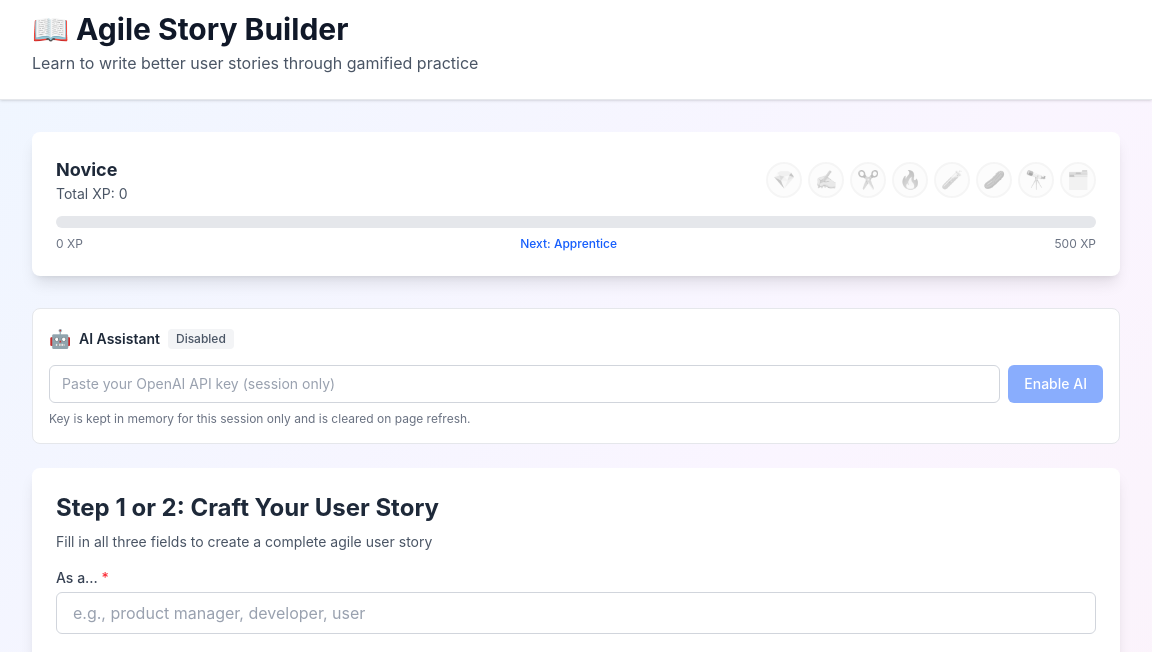
Scenario: Draft / Final flow › draft score results are shown after scoring
Step 1. Type "customer support manager" into the field labelled "As a... *" → (576, 613), box [56,592,1096,634]
(page scrolled)
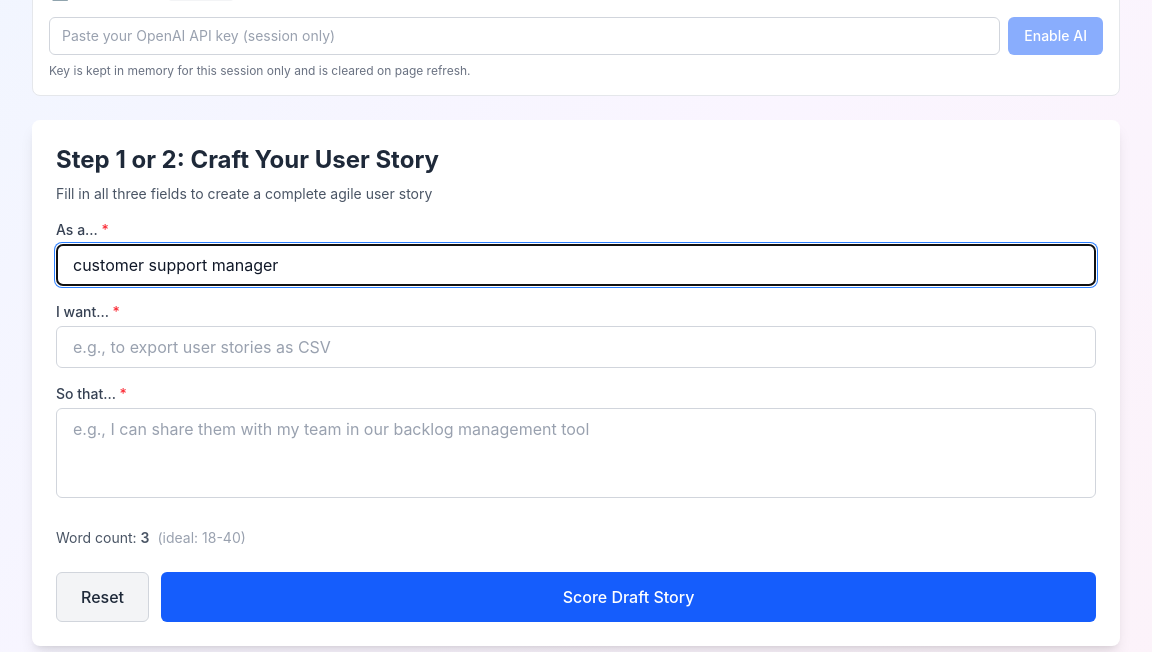
Step 2. Type "to export weekly incident summaries" into the field labelled "I want... *" → (576, 347), box [56,326,1096,368]
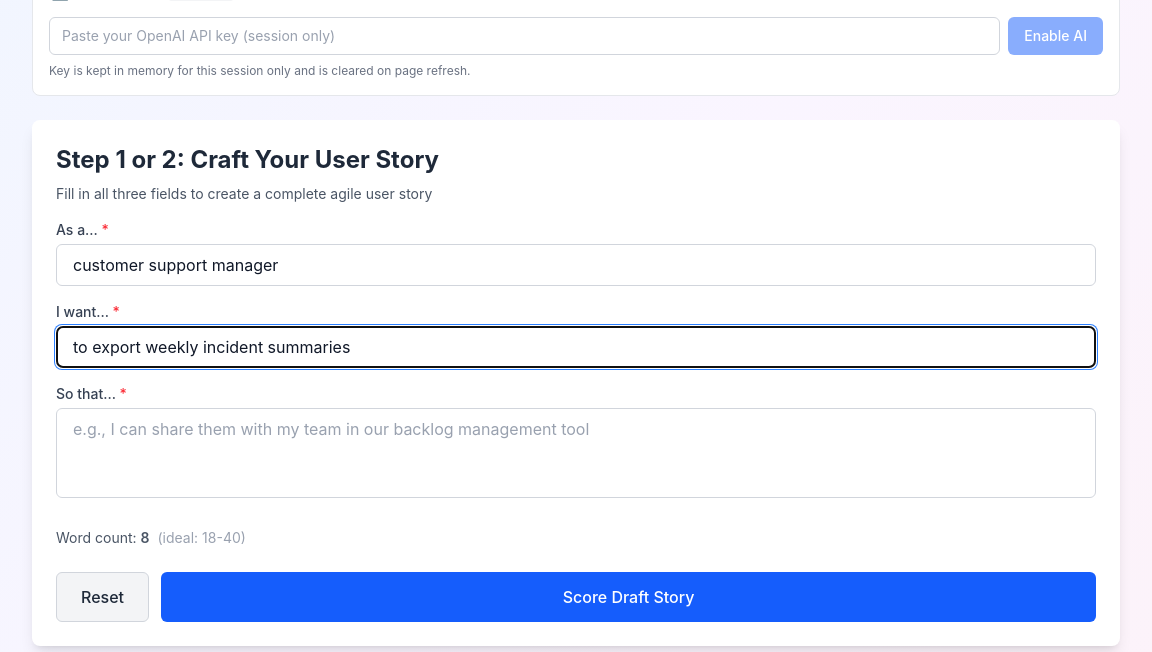
Step 3. Type "I can reduce weekly reporting time by 40%" into the text box labelled "So that... *" → (576, 453), box [56,408,1096,498]
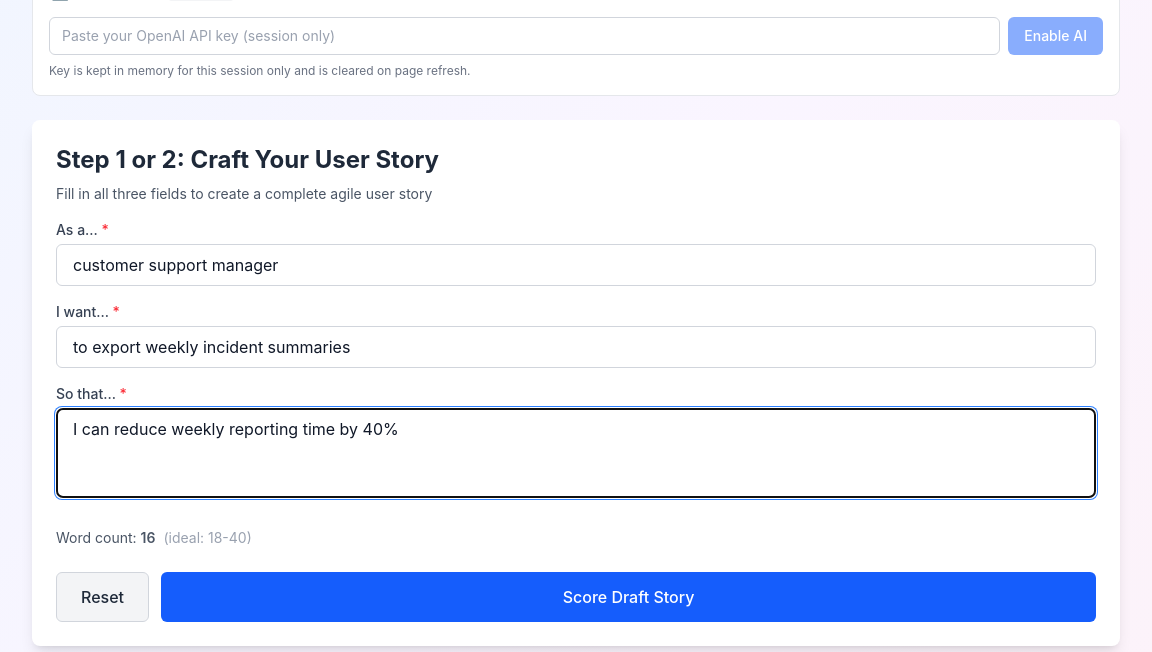
Step 4. Click the button "Score Draft Story" → (628, 597), box [161,572,1096,622]
(page scrolled)
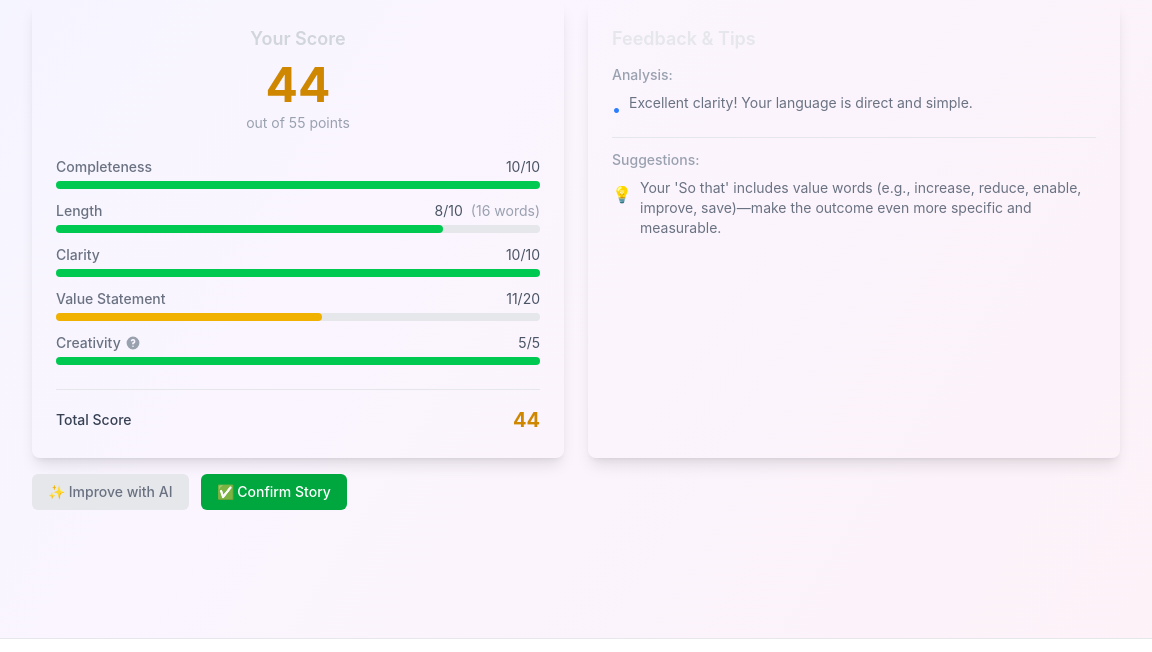
Result: the button "✅ Confirm Story" is shown at [200,474,347,510]
